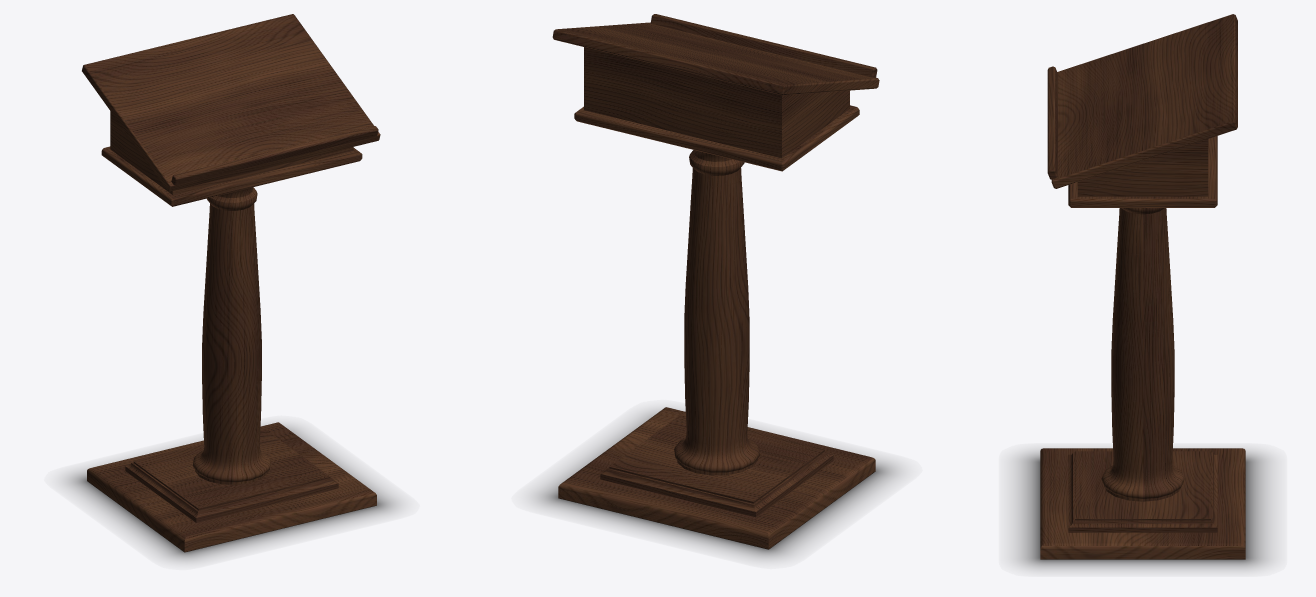
The model's file is lectern.glb.
The picture shows the model from 3 angles, left to right: view 1: azimuth 30°, elevation 25°; view 2: azimuth 150°, elevation 25°; view 3: azimuth 270°, elevation 25°; orthographic projection. The views are drawn at different scales.
Visible parts, largest first — view 1: lectern; view 2: lectern; view 3: lectern.
Part boxes in pixels (x1,y1,x2,y2): lectern: (65, 14, 398, 561); lectern: (534, 14, 899, 558); lectern: (1016, 14, 1269, 569).
Size of the model in its own units: 0.74 by 1.05 by 0.68.
Materials: 2 (2 with a texture image).
